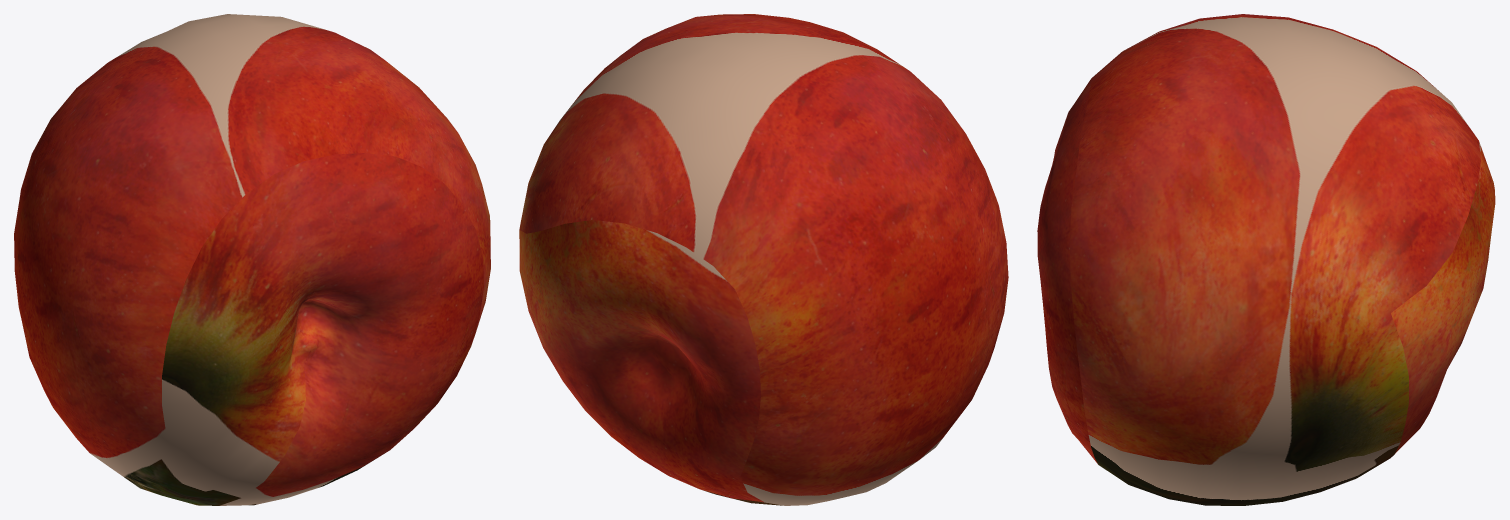
3 renders of one model, left to right at view 1: azimuth 30°, elevation 25°; view 2: azimuth 150°, elevation 25°; view 3: azimuth 270°, elevation 25°, orthographic. The views are drawn at different scales.
Bounding box in the file's own units: 0.9904 × 1 × 0.9115.
